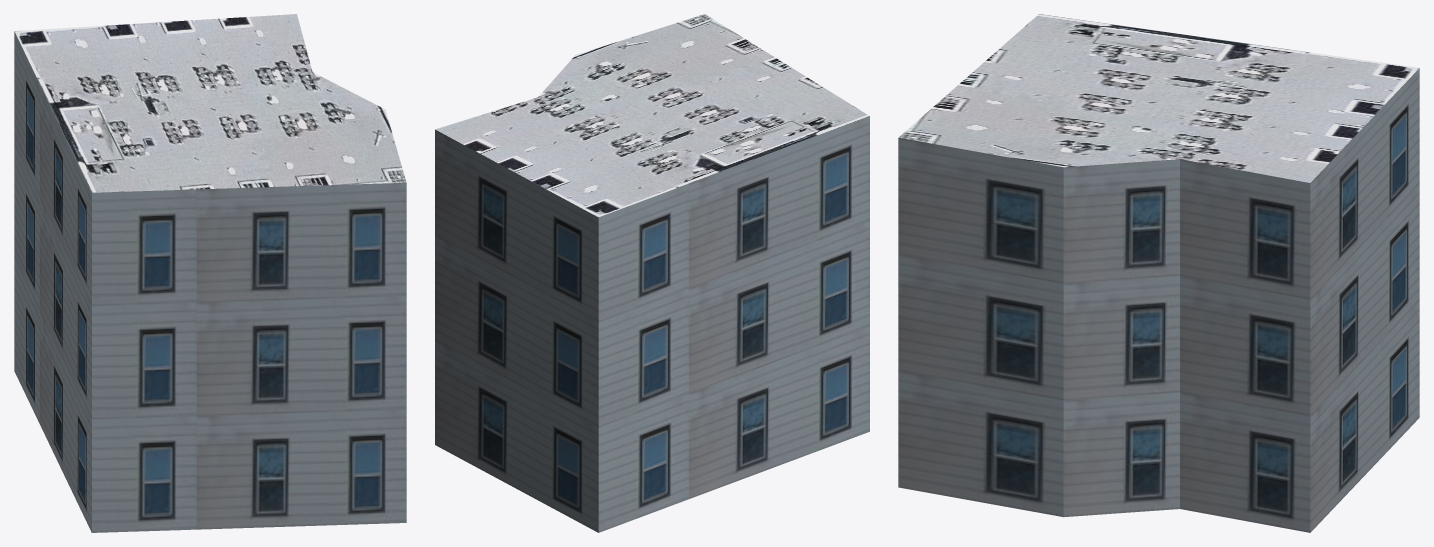
The model's file is ResTex__4192.fbx.
The picture shows the model from 3 angles, left to right: view 1: azimuth 30°, elevation 25°; view 2: azimuth 150°, elevation 25°; view 3: azimuth 270°, elevation 25°; orthographic projection. The views are drawn at different scales.
Parts seen in each view (by area): view 1: CityEngineMaterial_18_m, CityEngineMaterial_8_m; view 2: CityEngineMaterial_18_m, CityEngineMaterial_8_m; view 3: CityEngineMaterial_18_m, CityEngineMaterial_8_m.
Boxes of the visible parts, x1,y1,x2,y2 form: CityEngineMaterial_18_m: (14, 31, 406, 532); CityEngineMaterial_8_m: (14, 14, 406, 192); CityEngineMaterial_18_m: (435, 116, 869, 532); CityEngineMaterial_8_m: (435, 14, 869, 217); CityEngineMaterial_18_m: (898, 68, 1419, 532); CityEngineMaterial_8_m: (899, 14, 1418, 182).
Bounding box in the file's own units: 9.33 × 9 × 12.15.
Materials: 2 (2 with a texture image).
